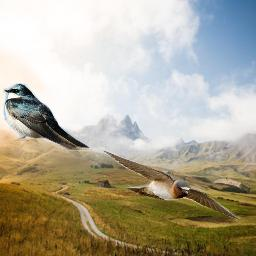Swallow: (100, 147, 241, 220), (3, 83, 90, 150)
